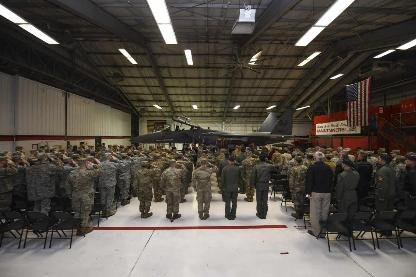F117: (128, 107, 316, 154)
